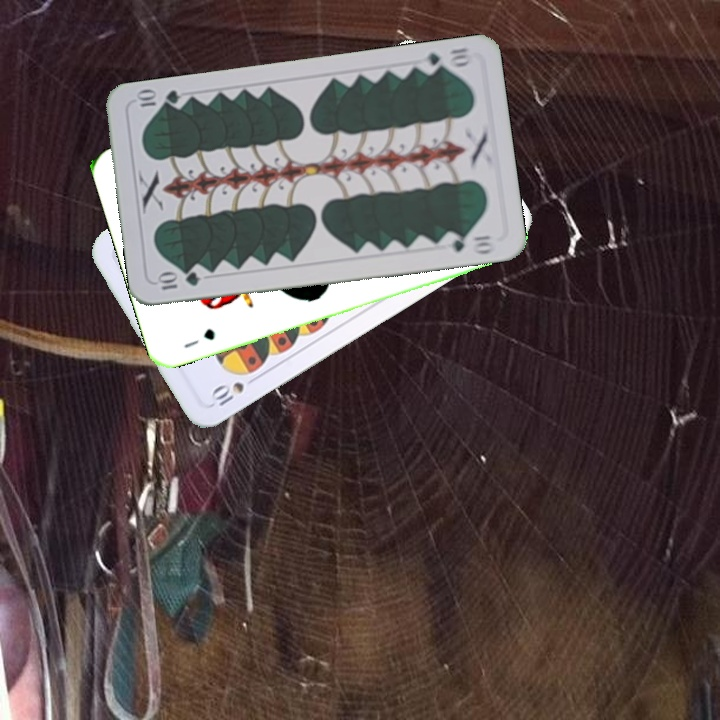G10: (415, 43, 475, 76), (153, 268, 202, 293)
GU: (180, 324, 218, 351)
S10: (206, 371, 261, 411)
